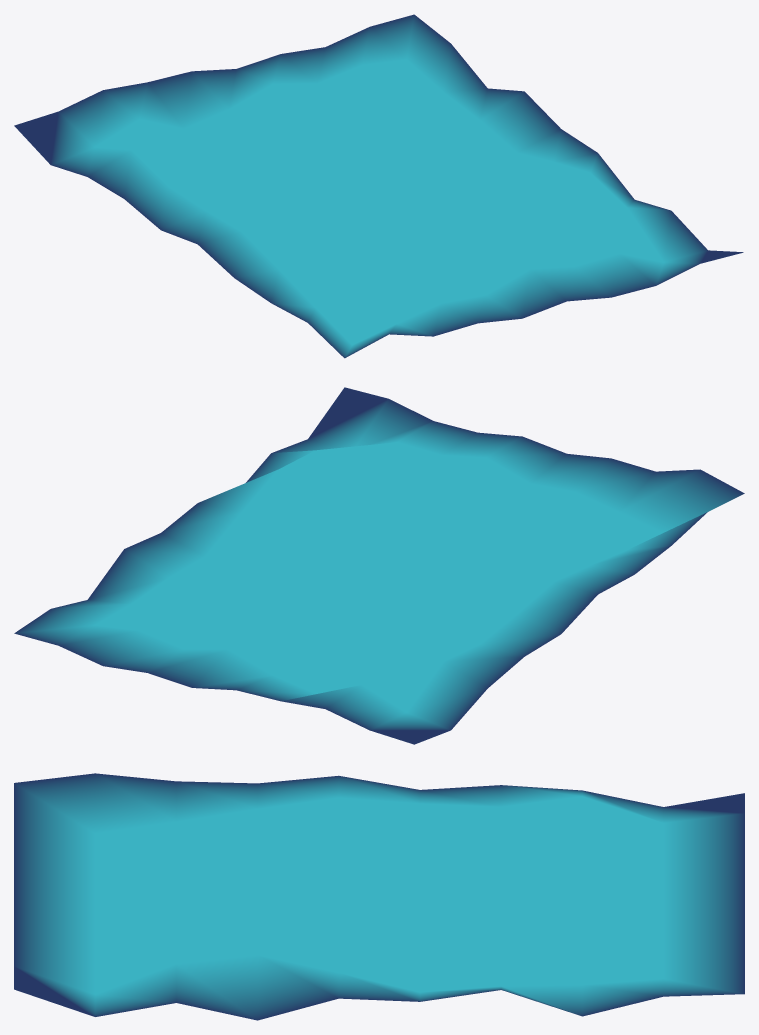
Rendered from Pool Water.fbx.
The picture shows the model from 3 angles, top to bottom: view 1: azimuth 30°, elevation 25°; view 2: azimuth 150°, elevation 25°; view 3: azimuth 270°, elevation 25°; orthographic projection. The views are drawn at different scales.
Visible parts, largest first — view 1: Pool Water; view 2: Pool Water; view 3: Pool Water.
Part boxes in pixels (x1,y1,x2,y2): Pool Water: (14, 14, 743, 358); Pool Water: (14, 387, 744, 744); Pool Water: (14, 773, 744, 1020).
Bounding box in the file's own units: 5.43 × 0.5913 × 7.76.
